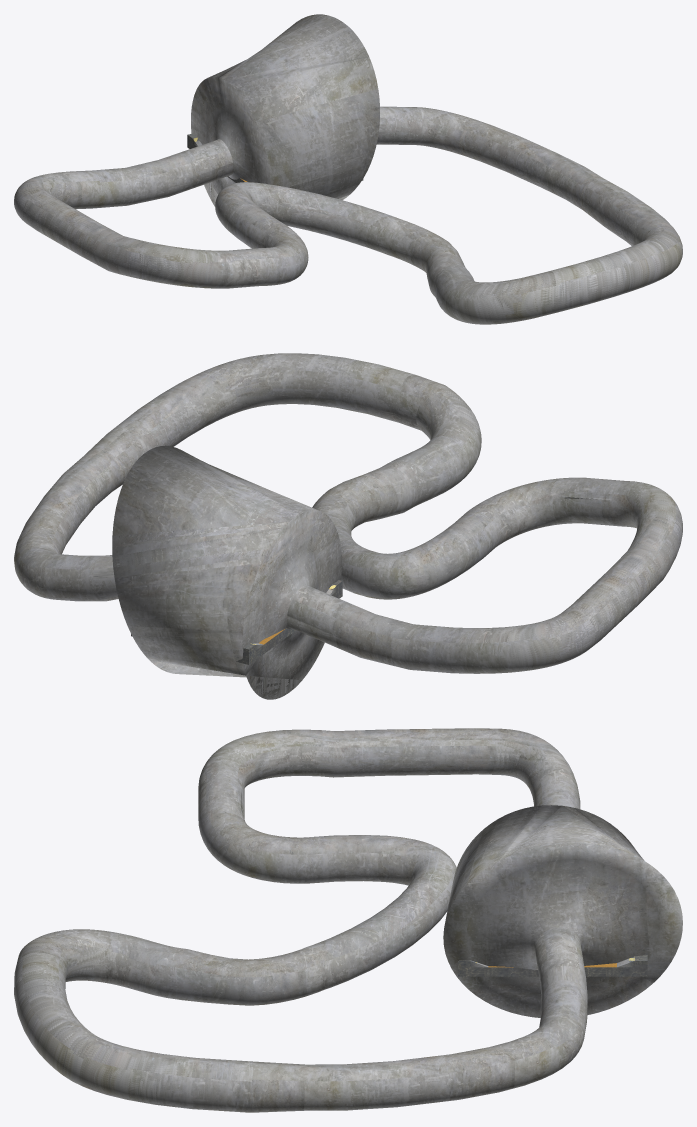
Rendered from pipetrak.obj.
3 renders of one model, top to bottom at view 1: azimuth 30°, elevation 25°; view 2: azimuth 150°, elevation 25°; view 3: azimuth 270°, elevation 25°, orthographic. The views are drawn at different scales.
Parts seen in each view (by area): view 1: Sweep.1; view 2: Sweep.1, Sześcian_1; view 3: Sweep.1, Sześcian_1.
Boxes of the visible parts, x1,y1,x2,y2 form: Sweep.1: (14,14,682,324); Sweep.1: (14,353,682,699); Sześcian_1: (131,580,342,664); Sweep.1: (14,728,682,1112); Sześcian_1: (458,955,647,976).
Size of the model in its own units: 780 by 254 by 725.
Materials: 4 (4 with a texture image).
